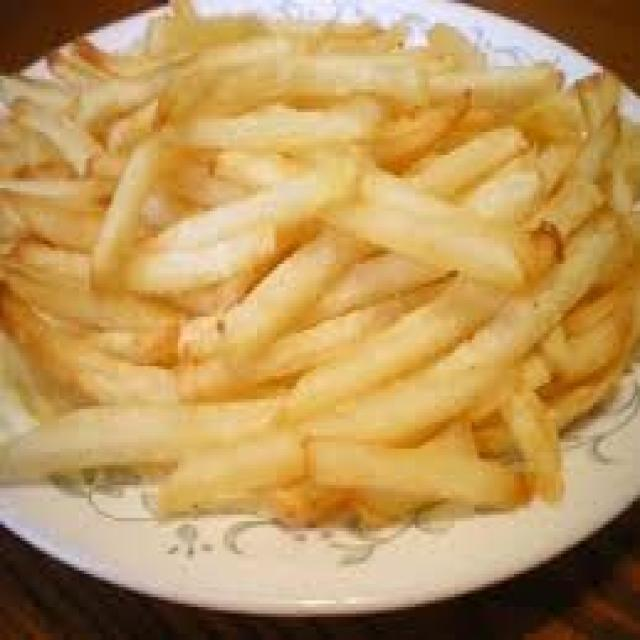감자튀김: (0, 0, 640, 640)
